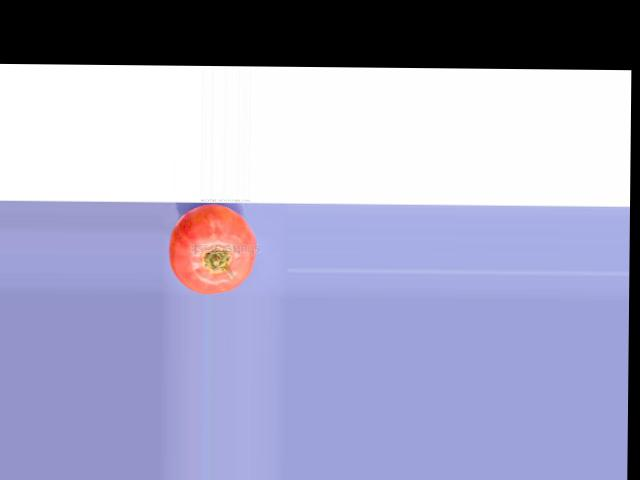tomato: (167, 205, 256, 294)
